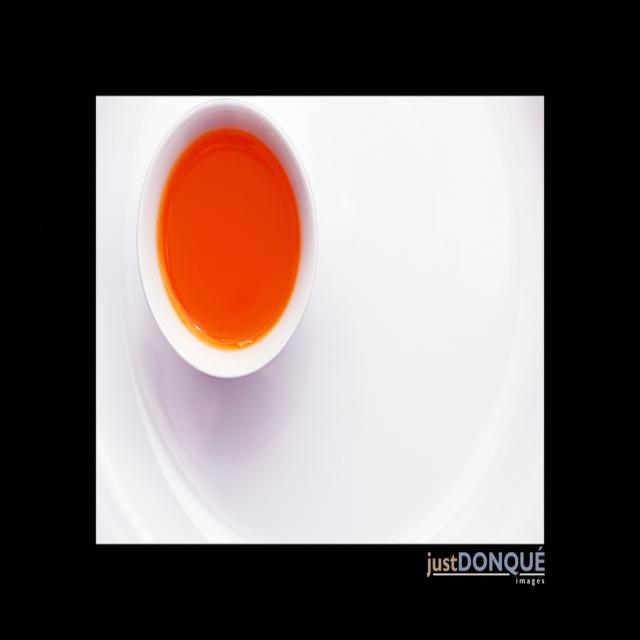Tea: (156, 123, 300, 350)
